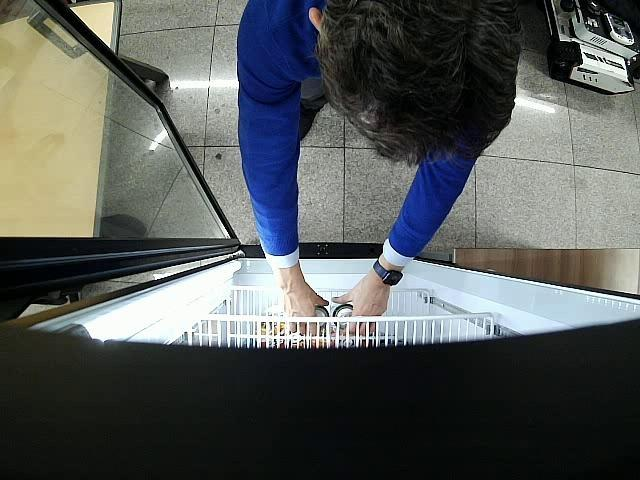12_chilsungCider: (334, 305, 354, 328), (312, 304, 328, 328)
